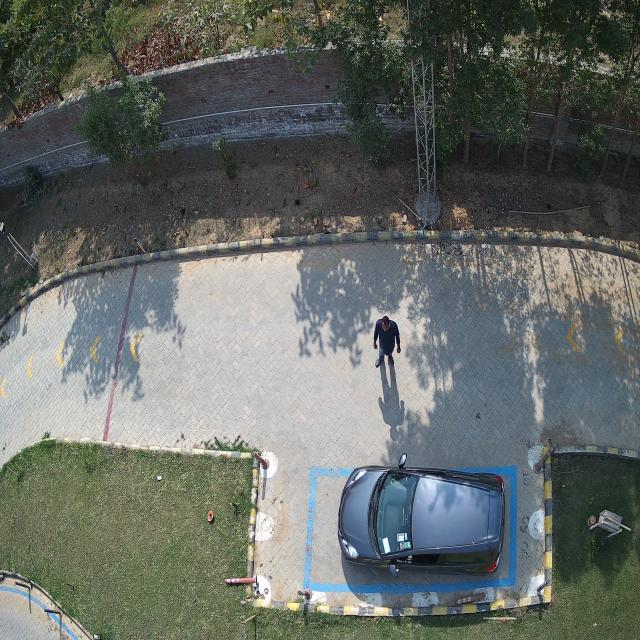car: (338, 455, 505, 577)
